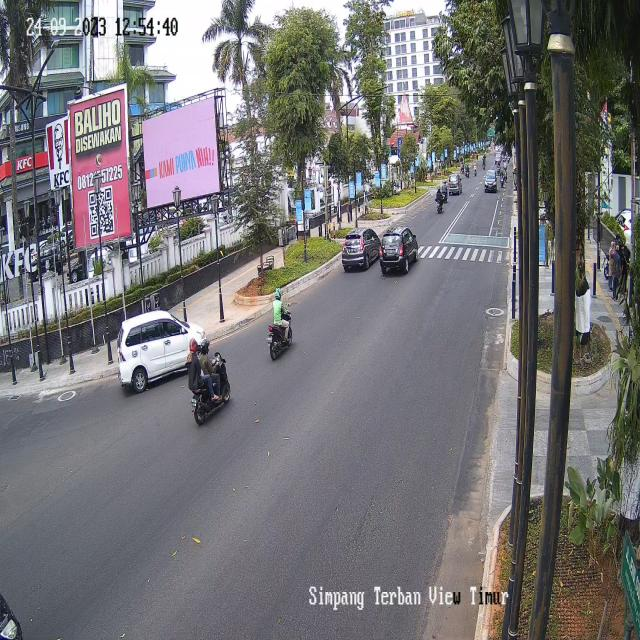car: (117, 309, 208, 397), (377, 222, 419, 277), (340, 224, 383, 275)
motorcycle: (184, 333, 234, 428), (268, 284, 294, 366), (435, 183, 444, 215), (440, 177, 448, 201)
